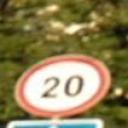speed_limit_20: (15, 53, 113, 122)
